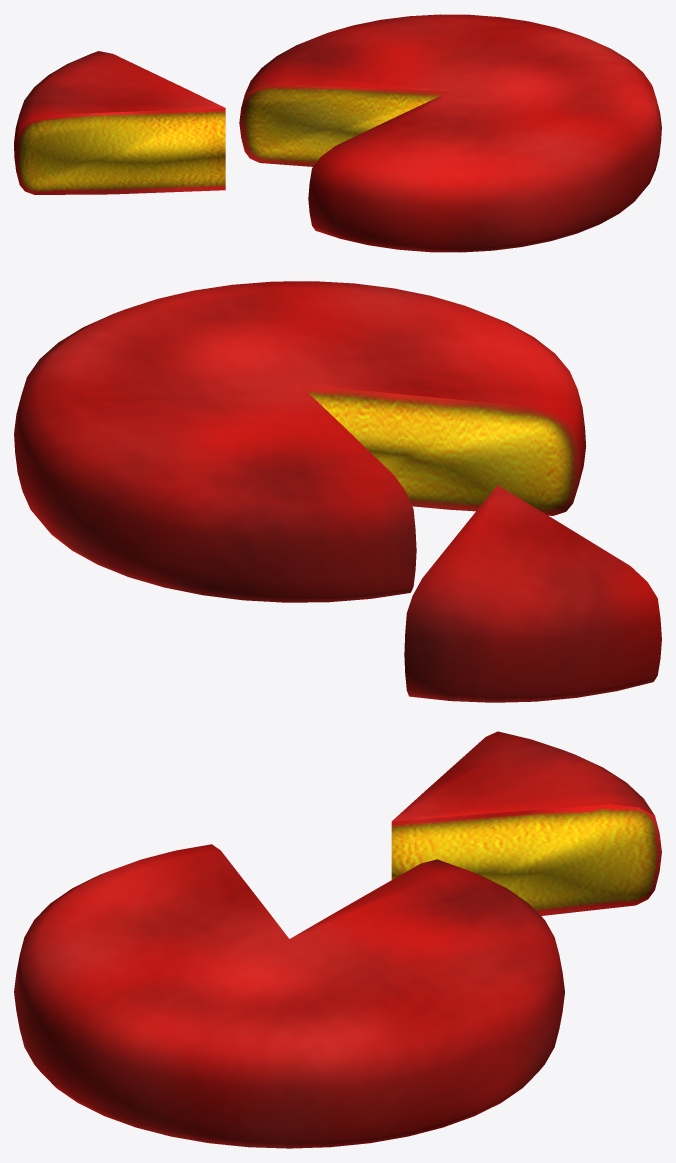
The model's file is cheesewheelcut.fbx.
3 renders of one model, top to bottom at view 1: azimuth 30°, elevation 25°; view 2: azimuth 150°, elevation 25°; view 3: azimuth 270°, elevation 25°, orthographic. The views are drawn at different scales.
Parts seen in each view (by area): view 1: CheeseWheelcut, CheeseWheelslice; view 2: CheeseWheelcut, CheeseWheelslice; view 3: CheeseWheelcut, CheeseWheelslice.
Part boxes in pixels (x1,y1,x2,y2): CheeseWheelcut: [239, 14, 661, 252]; CheeseWheelslice: [14, 51, 225, 194]; CheeseWheelcut: [14, 281, 586, 602]; CheeseWheelslice: [404, 485, 661, 702]; CheeseWheelcut: [14, 844, 564, 1148]; CheeseWheelslice: [391, 731, 661, 915].
Bounding box in the file's own units: 1.67 × 0.245 × 1.35.
